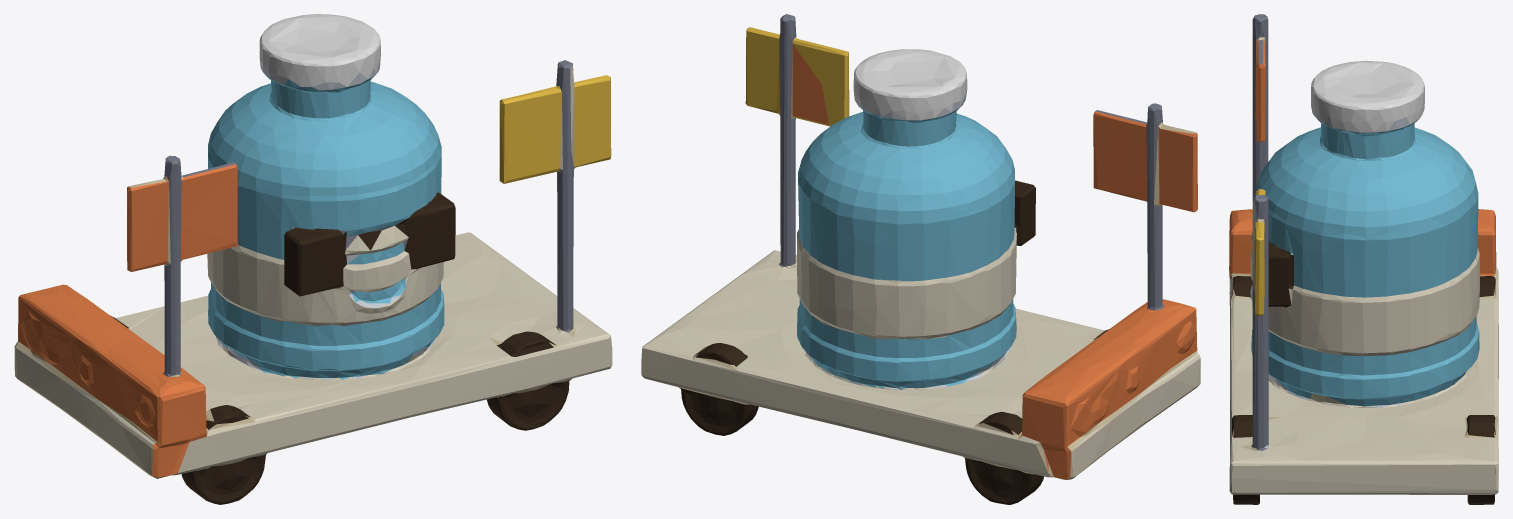
The model's file is float-hunyuan-B.glb.
The picture shows the model from 3 angles, left to right: view 1: azimuth 30°, elevation 25°; view 2: azimuth 150°, elevation 25°; view 3: azimuth 270°, elevation 25°; orthographic projection. The views are drawn at different scales.
Visible parts, largest first — view 1: float; view 2: float; view 3: float.
Boxes of the visible parts, bbox=[...] form: float: bbox=[14, 14, 612, 504]; float: bbox=[641, 14, 1200, 504]; float: bbox=[1229, 14, 1498, 504].
Size of the model in its own units: 2.86 by 2.13 by 1.47.
